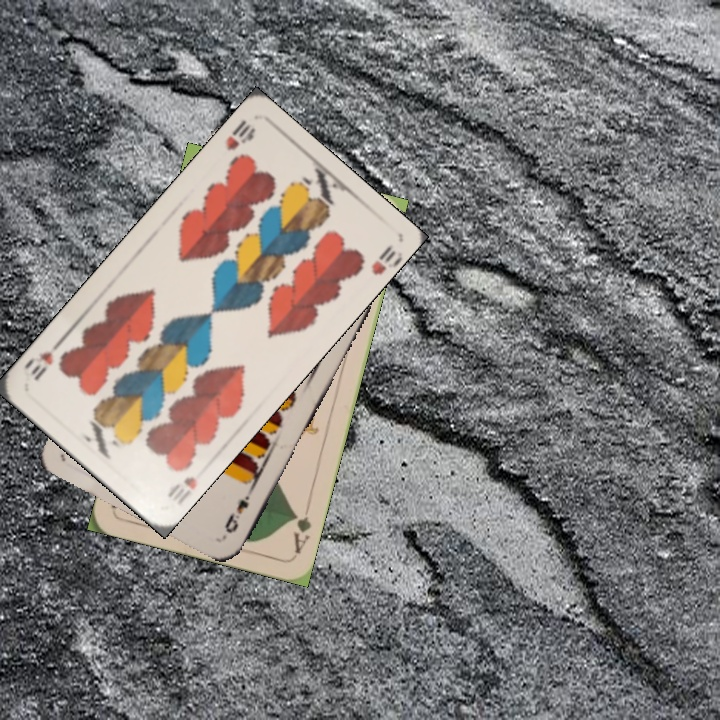E9: (220, 484, 256, 536)
GA: (289, 499, 314, 557)
H10: (221, 116, 258, 154), (163, 472, 199, 500)
